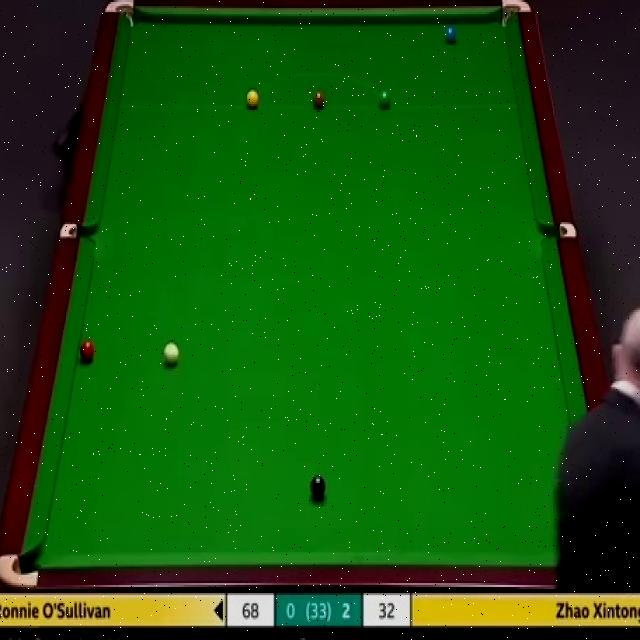black-ball: (309, 474, 326, 501)
blue-ball: (444, 25, 457, 43)
brown-ball: (311, 88, 326, 110)
green-ball: (376, 90, 391, 110)
red-ball: (79, 340, 95, 364)
white-ball: (162, 339, 180, 367)
yellow-ball: (246, 87, 260, 109)
